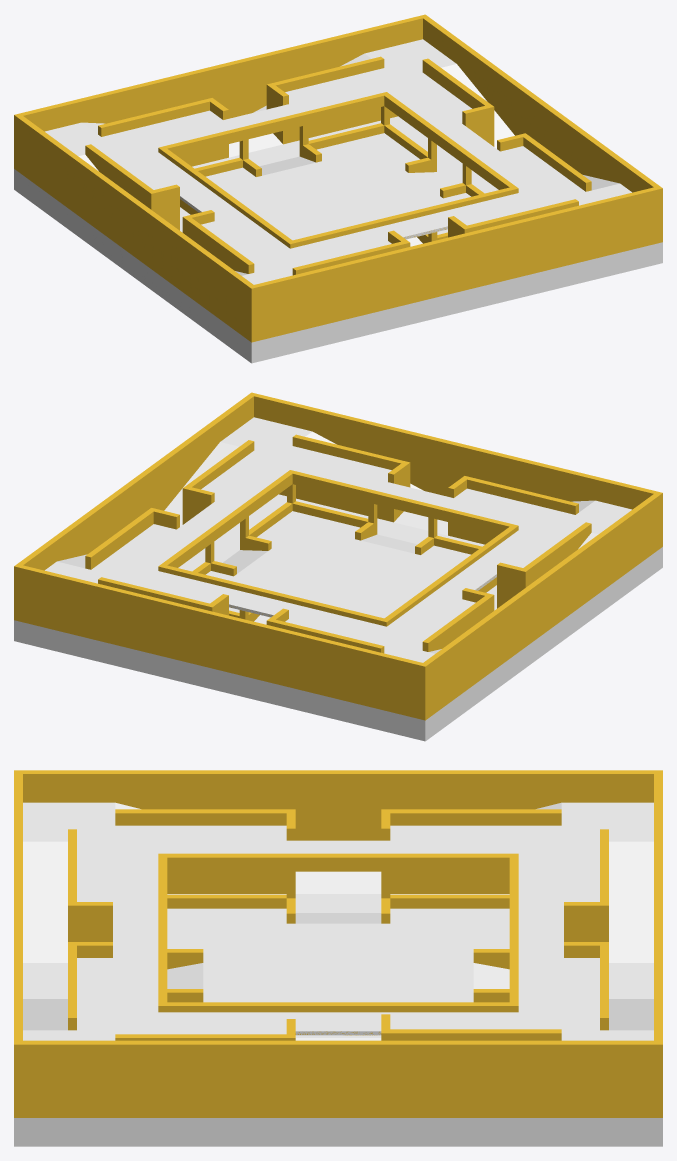
3 renders of one model, top to bottom at view 1: azimuth 30°, elevation 25°; view 2: azimuth 150°, elevation 25°; view 3: azimuth 270°, elevation 25°, orthographic. The views are drawn at different scales.
Visible parts, largest first — view 1: group_2 (×4), group_1 (×2), group_4 (×4), group_3 (×2), RAIL (×3); view 2: group_2 (×4), group_1 (×2), group_4 (×4), group_3 (×2), RAIL (×3); view 3: group_2 (×4), group_1 (×2), group_4 (×4), group_3 (×2), RAIL (×2).
Part boxes in pixels (bbox=[...]): group_2 (×4): bbox=[14, 39, 662, 363]; group_1 (×2): bbox=[14, 14, 662, 342]; group_4 (×4): bbox=[85, 56, 591, 275]; group_3 (×2): bbox=[158, 92, 518, 248]; RAIL (×3): bbox=[180, 123, 484, 243]; group_2 (×4): bbox=[14, 417, 662, 741]; group_1 (×2): bbox=[14, 392, 662, 720]; group_4 (×4): bbox=[85, 434, 591, 653]; group_3 (×2): bbox=[158, 470, 518, 626]; RAIL (×3): bbox=[192, 501, 496, 621]; group_2 (×4): bbox=[14, 802, 662, 1146]; group_1 (×2): bbox=[14, 770, 662, 1117]; group_4 (×4): bbox=[68, 809, 608, 1040]; group_3 (×2): bbox=[158, 853, 518, 1012]; RAIL (×2): bbox=[167, 894, 509, 969].
Bounding box in the file's own units: 1728 × 1728 × 300.
